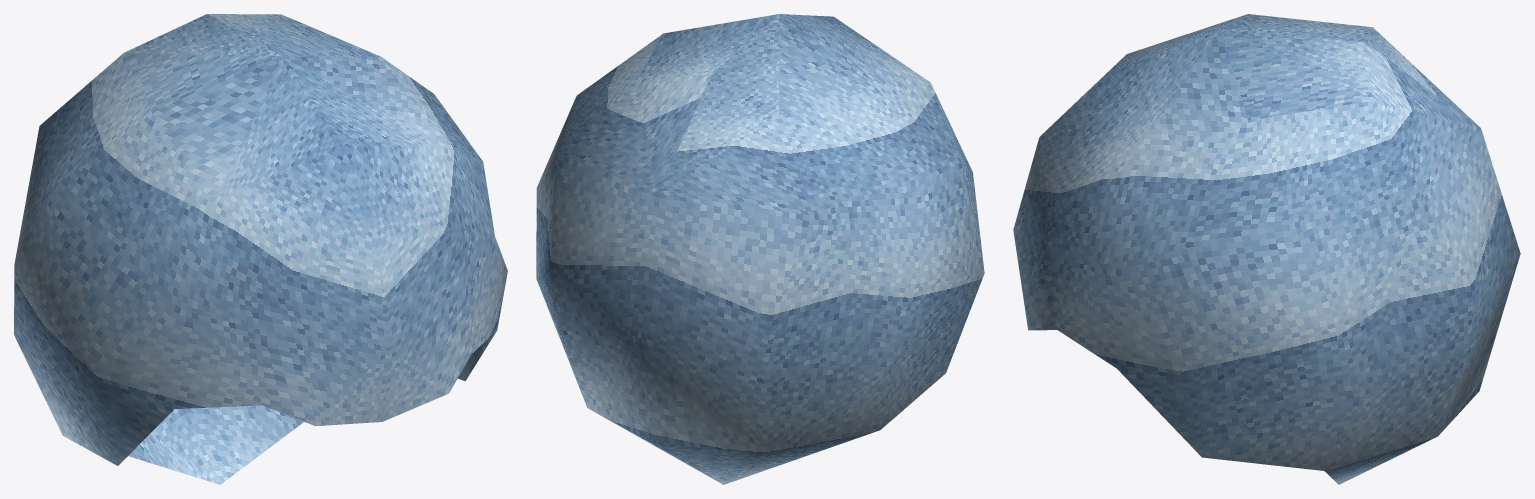
File: code_head45.gltf
3 views of the same model, side by side, from view 1: azimuth 30°, elevation 25°; view 2: azimuth 150°, elevation 25°; view 3: azimuth 270°, elevation 25° (orthographic). The views are drawn at different scales.
Visible parts, largest first — view 1: code_head45; view 2: code_head45; view 3: code_head45.
Part boxes in pixels (box(x1,y1,x2,y2)): code_head45: box(14, 14, 507, 484); code_head45: box(536, 14, 984, 484); code_head45: box(1013, 14, 1520, 484).
Size of the model in its own units: 0.7017 by 0.7234 by 0.7312.
Materials: 1 (1 with a texture image).
